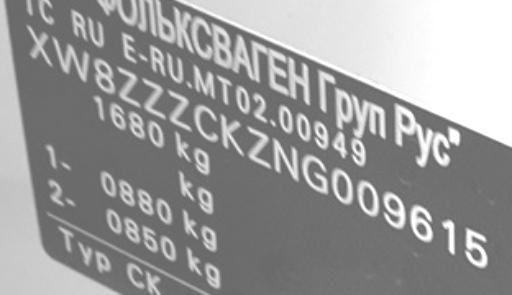letter: (49, 35, 91, 82), (218, 111, 248, 158), (272, 135, 300, 184), (300, 150, 330, 195), (242, 124, 272, 169), (26, 22, 54, 67), (166, 86, 194, 131), (190, 102, 220, 144), (464, 224, 490, 271), (114, 65, 142, 107), (408, 200, 434, 245), (142, 75, 168, 120), (356, 176, 382, 218), (380, 188, 406, 230), (329, 165, 355, 206), (92, 55, 116, 96), (440, 216, 458, 257)
